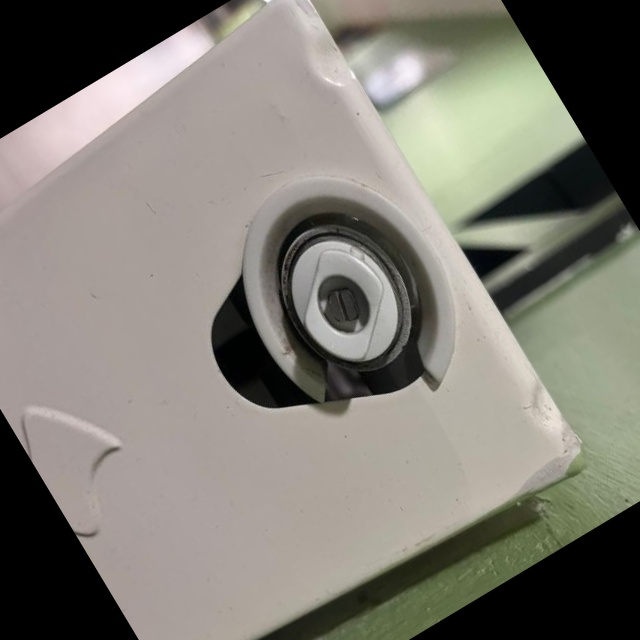duz: (322, 283, 365, 328)
